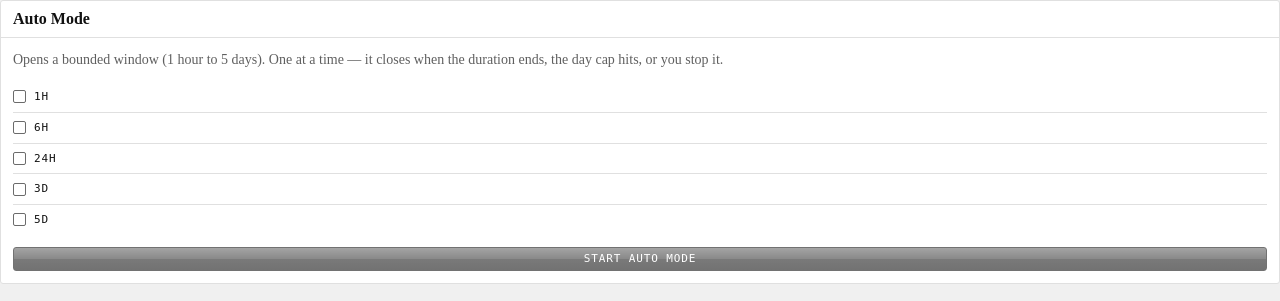
Test: u7 auto mode panel (V7-T14) › OFF renders the duration picker + START, and START posts duration_hours
Expected: the radio button labelled "1h" is shown, [13, 82, 1267, 113]
Expected: the radio button labelled "6h" is shown, [13, 113, 1267, 144]
Click the radio button labelled "24h" at (20,158), box [13, 144, 1267, 174]
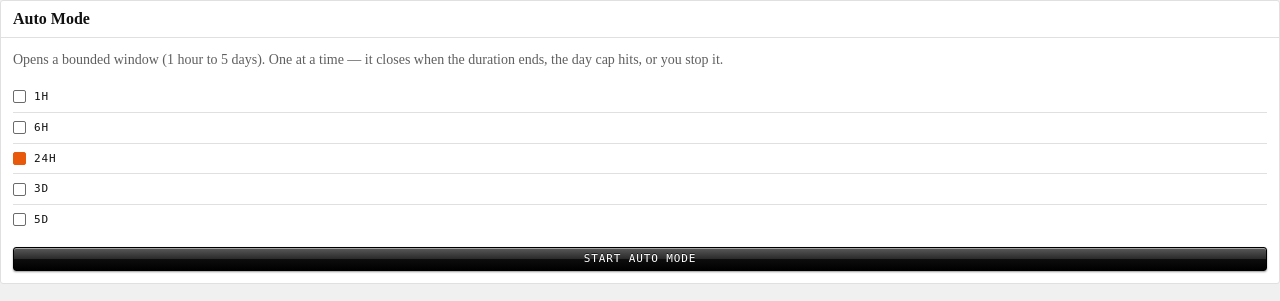
Result: the button "Start Auto Mode" is enabled
Click the button "Start Auto Mode" at (640,259), box [13, 247, 1267, 271]
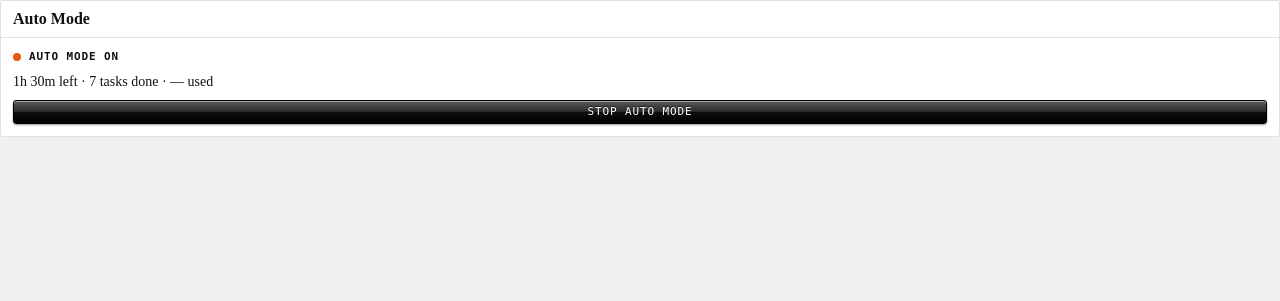
Result: the text "7 tasks done" is shown at [89, 74, 158, 89]
